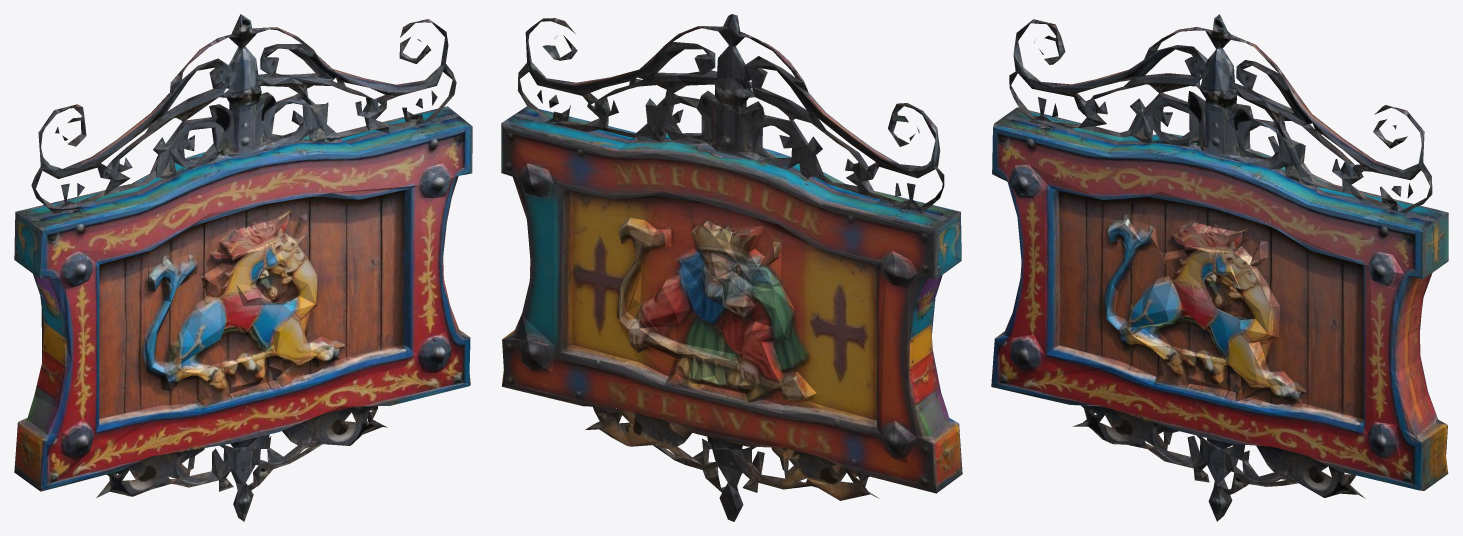
The model's file is sign_shop_lion_lod0.glb.
3 views of the same model, side by side, from view 1: azimuth 30°, elevation 25°; view 2: azimuth 150°, elevation 25°; view 3: azimuth 330°, elevation 25° (orthographic).
Visible parts, largest first — view 1: sign_shop_lion_lod0; view 2: sign_shop_lion_lod0; view 3: sign_shop_lion_lod0.
Boxes of the visible parts, x1,y1,x2,y2 form: sign_shop_lion_lod0: (14,14,472,521); sign_shop_lion_lod0: (501,14,962,521); sign_shop_lion_lod0: (991,14,1448,521).
Size of the model in its own units: 0.8966 by 1 by 0.1361.
Materials: 1 (1 with a texture image).
